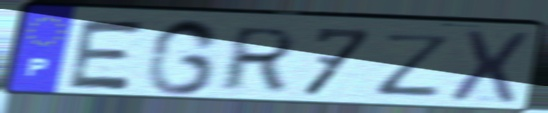7: (300, 25, 374, 99)
E: (62, 17, 151, 93)
G: (142, 16, 224, 98)
R: (215, 25, 301, 93)
X: (446, 28, 533, 105)
Z: (375, 31, 457, 99)
